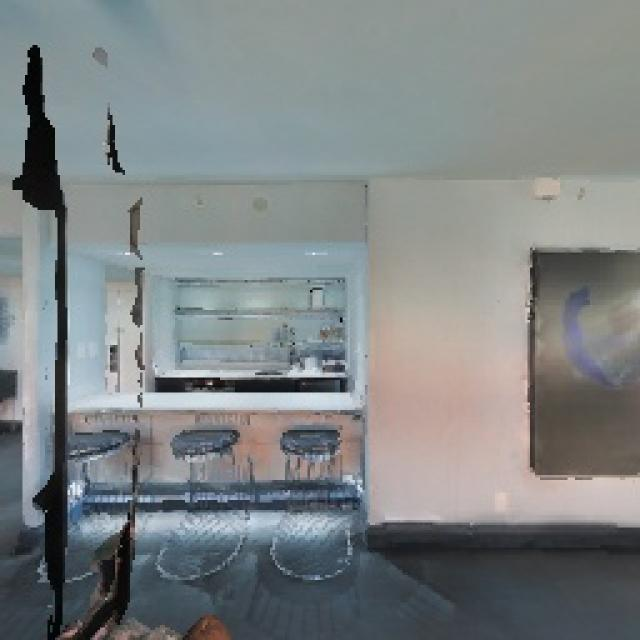chair: (155, 422, 265, 587), (262, 415, 365, 589), (36, 426, 144, 578)
